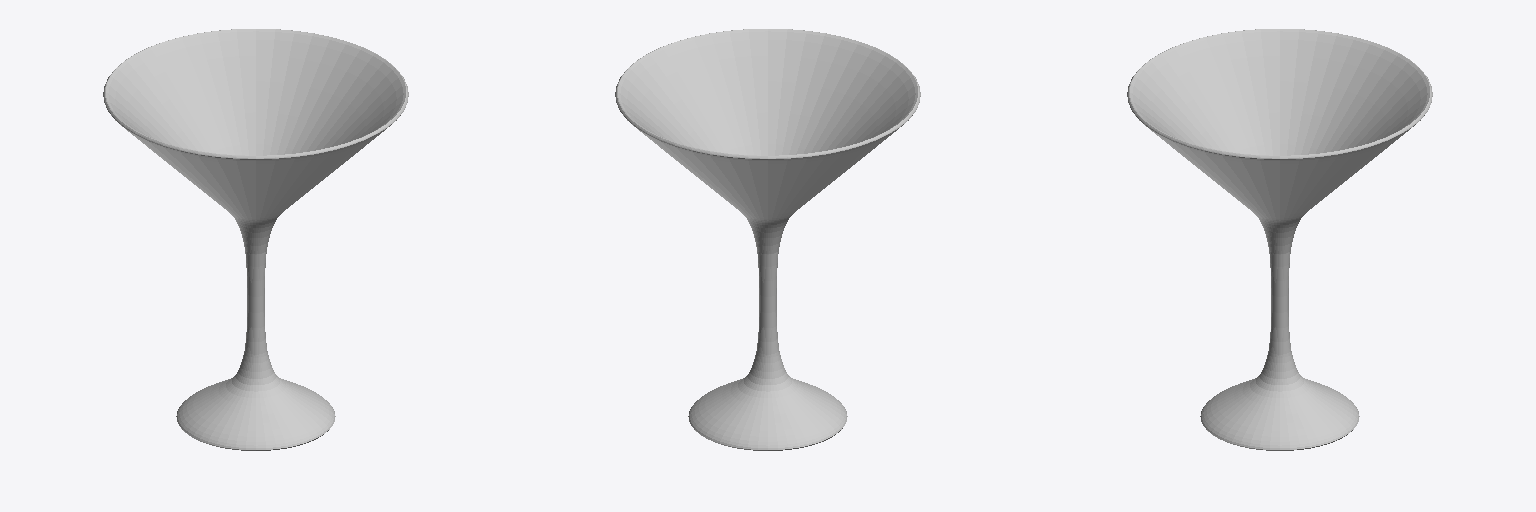
The model's file is glass7.obj.
3 views of the same model, side by side, from view 1: azimuth 30°, elevation 25°; view 2: azimuth 150°, elevation 25°; view 3: azimuth 270°, elevation 25° (orthographic).
Visible parts, largest first — view 1: 7; view 2: 7; view 3: 7.
Part boxes in pixels (bbox=[...]): 7: bbox=[103, 29, 408, 450]; 7: bbox=[615, 29, 920, 450]; 7: bbox=[1127, 29, 1432, 450].
Bounding box in the file's own units: 1.32 × 1.56 × 1.32.